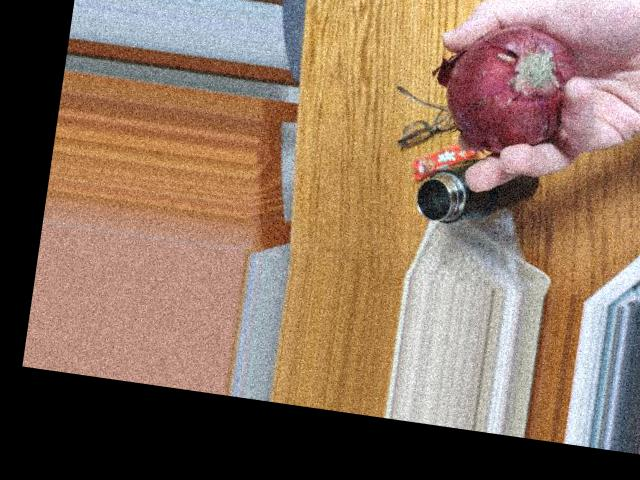onion: (451, 16, 583, 160)
